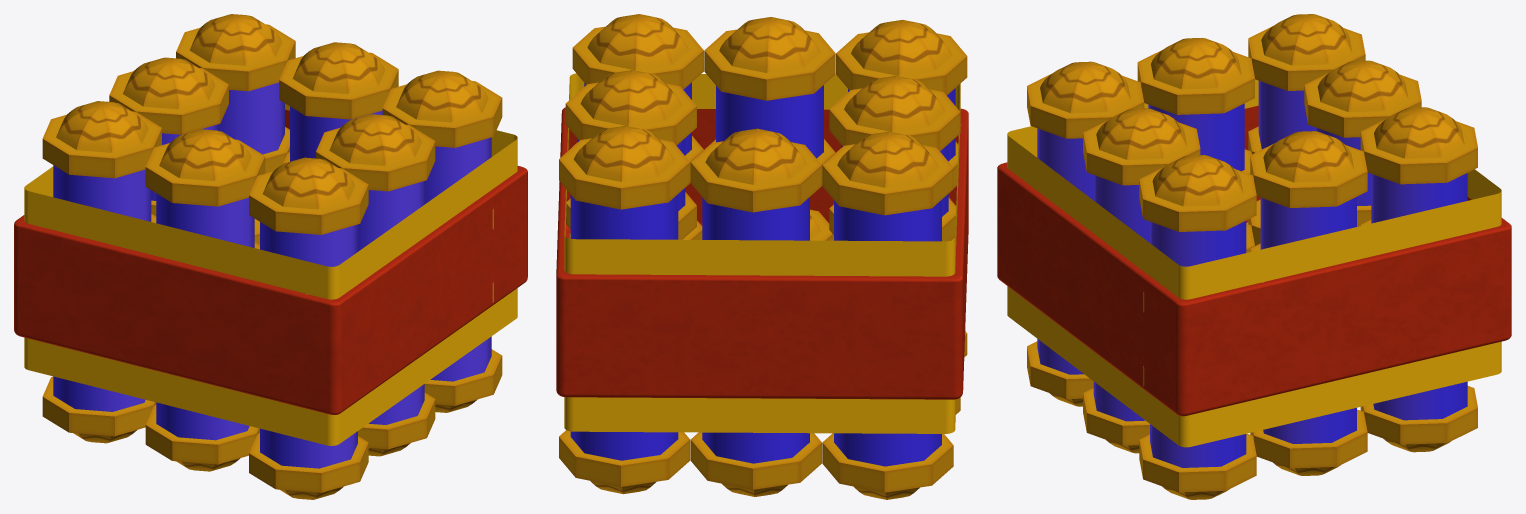
File: energy can stack anim large.fbx
3 views of the same model, side by side, from view 1: azimuth 30°, elevation 25°; view 2: azimuth 150°, elevation 25°; view 3: azimuth 270°, elevation 25° (orthographic). The views are drawn at different scales.
Parts seen in each view (by area): view 1: ribbon_v2:pCube1, stack_can_r_b (×2), stack_can_r_m (×2), stack_can_r_f (×2), stack_can_l_b (×2), stack_can_m_b (×2), stack_can_l_f, stack_can_l_m, stack_can_m_f; view 2: ribbon_v2:pCube1, stack_can_l_f (×2), stack_can_r_f (×2), stack_can_m_f (×2), stack_can_m_b (×2), stack_can_l_m, stack_can_r_m, stack_can_l_b, stack_can_r_b; view 3: ribbon_v2:pCube1, stack_can_l_b (×2), stack_can_l_m (×2), stack_can_l_f (×2), stack_can_m_b (×2), stack_can_r_b (×2), stack_can_r_m, stack_can_r_f, stack_can_m_f.
Part boxes in pixels (x1,y1,x2,y2): ribbon_v2:pCube1: [14, 103, 527, 445]; stack_can_r_b (×2): [249, 157, 368, 499]; stack_can_r_m (×2): [145, 129, 265, 471]; stack_can_r_f (×2): [42, 101, 161, 443]; stack_can_l_b (×2): [382, 70, 502, 412]; stack_can_m_b (×2): [316, 114, 435, 456]; stack_can_l_f: [176, 14, 295, 173]; stack_can_l_m: [279, 42, 398, 163]; stack_can_m_f: [109, 57, 228, 216]; ribbon_v2:pCube1: [556, 73, 968, 433]; stack_can_l_f (×2): [559, 125, 690, 494]; stack_can_r_f (×2): [822, 131, 953, 499]; stack_can_m_f (×2): [690, 128, 821, 496]; stack_can_m_b (×2): [704, 17, 835, 240]; stack_can_l_m: [565, 70, 696, 239]; stack_can_r_m: [829, 75, 960, 241]; stack_can_l_b: [572, 14, 703, 182]; stack_can_r_b: [836, 20, 967, 188]; ribbon_v2:pCube1: [997, 79, 1511, 447]; stack_can_l_b (×2): [1139, 155, 1256, 499]; stack_can_l_m (×2): [1250, 131, 1367, 475]; stack_can_l_f (×2): [1360, 107, 1477, 452]; stack_can_m_b (×2): [1083, 108, 1200, 453]; stack_can_r_b (×2): [1027, 61, 1144, 406]; stack_can_r_m: [1137, 38, 1254, 174]; stack_can_r_f: [1248, 14, 1365, 154]; stack_can_m_f: [1304, 60, 1421, 226].
Bounding box in the file's own units: 10.41 × 7.48 × 10.43.
